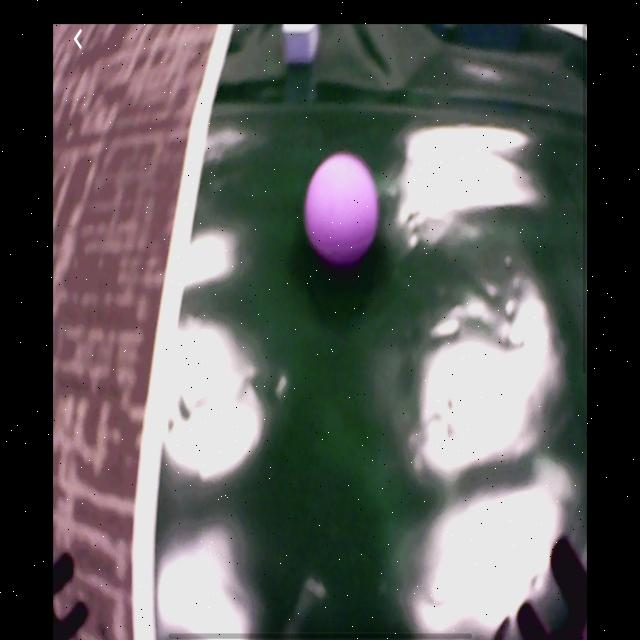ball: (305, 154, 381, 266)
